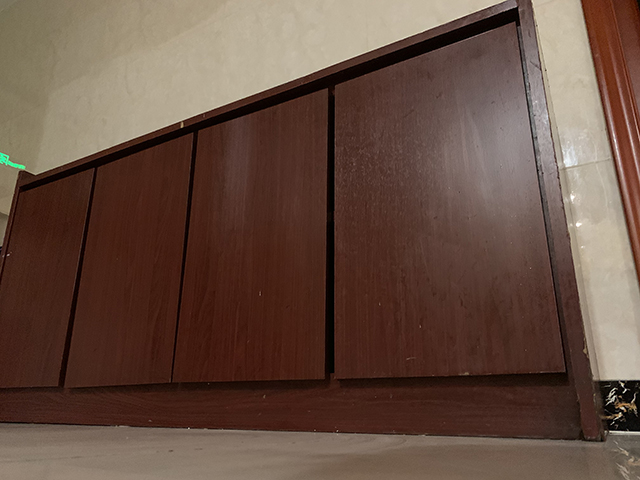cabinet: (1, 1, 608, 444)
